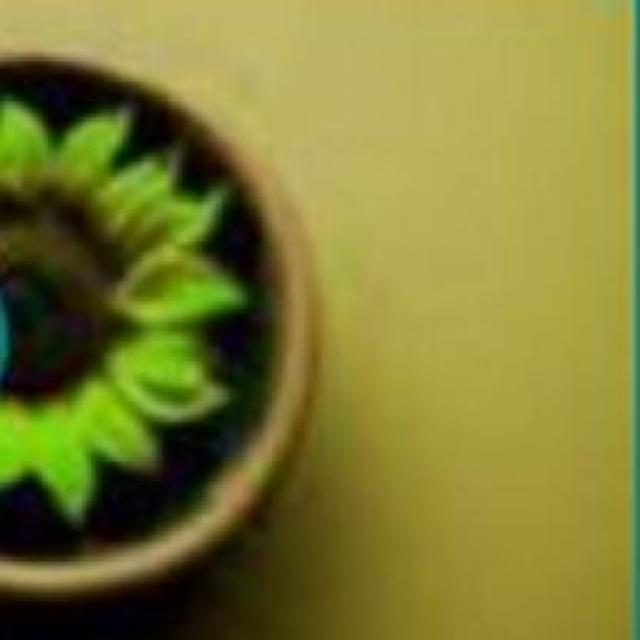sunflower: (1, 99, 242, 518)
